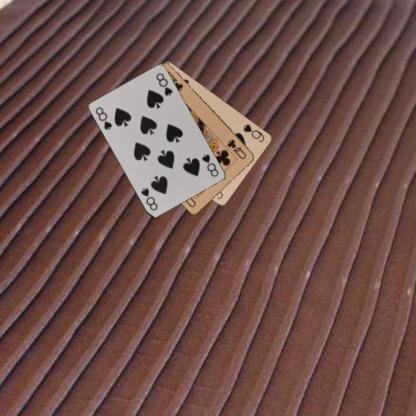6s: (241, 121, 266, 144)
8s: (93, 104, 114, 132), (199, 151, 220, 178)
Qc: (225, 137, 248, 161)
